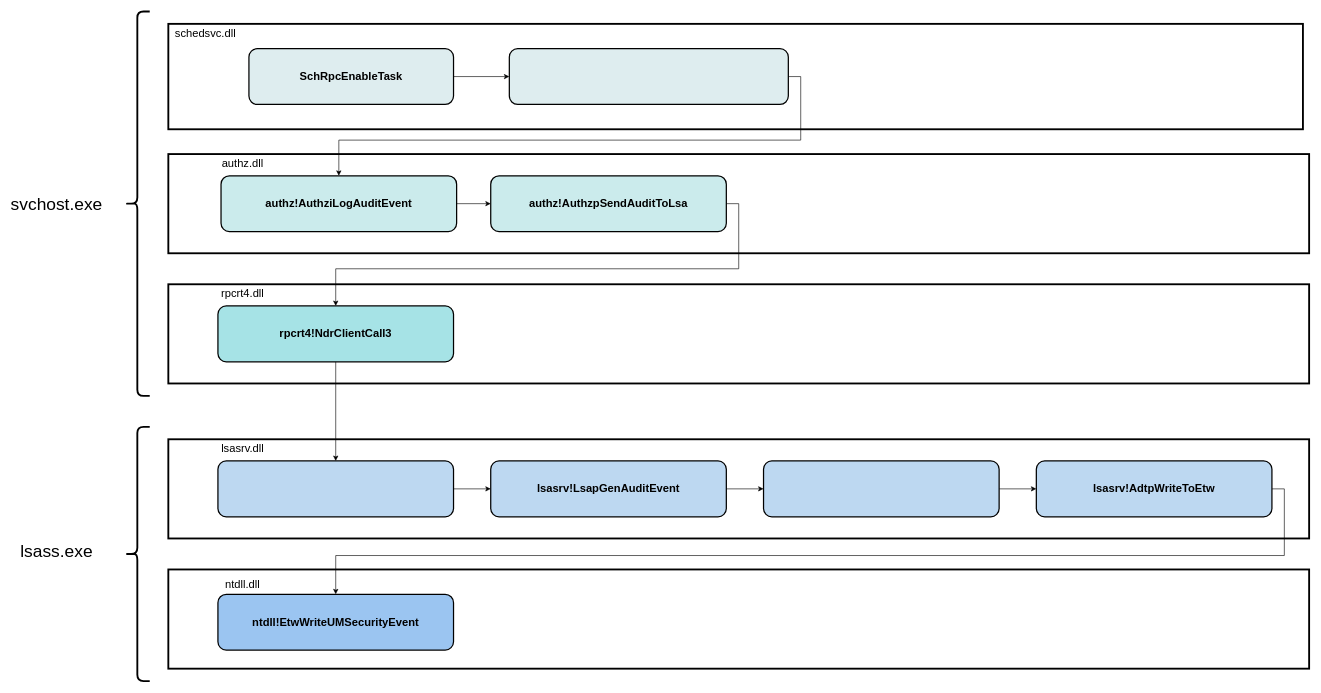
Some shapes in this 1321 by 693 pixel diagram are drawn without their labels. The shapes that lost their labels are listed below. From the top down, each one's centre as x and y in pixels, then its label:
At (x=648, y=76): "RpcServer::EnableTask".
At (x=335, y=488): "lsasrv!LsarGenAuditEvent".
At (x=881, y=488): "lsasrv!LsapAdtWriteLogEx".
